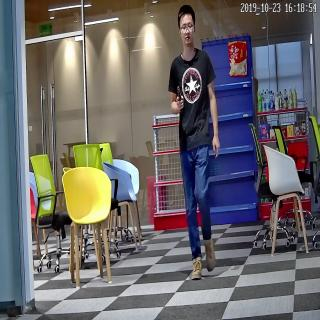gun: (172, 84, 188, 115)
